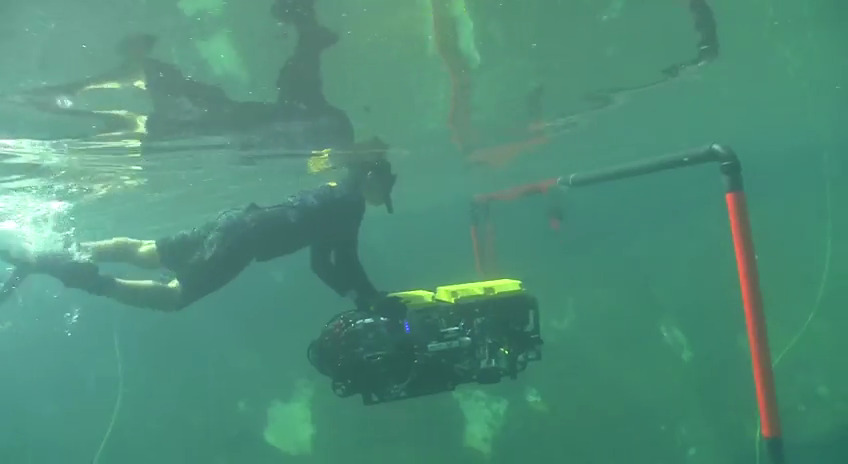gate: (447, 141, 790, 462)
